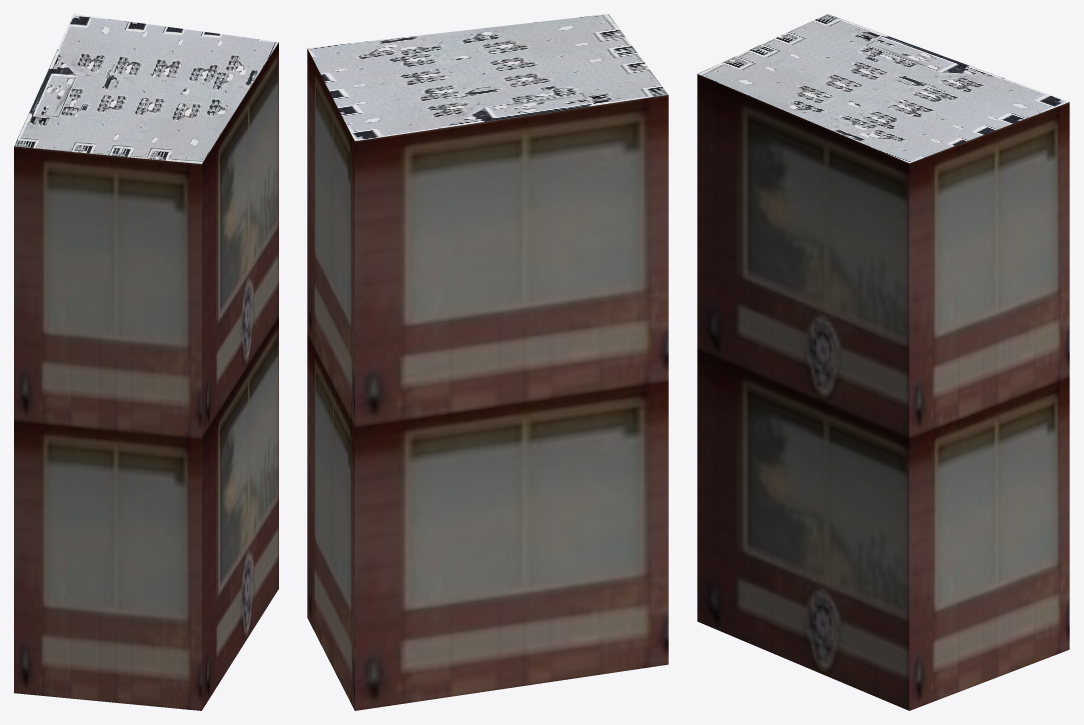
Rendered from ResTex__4345.fbx.
3 renders of one model, left to right at view 1: azimuth 30°, elevation 25°; view 2: azimuth 150°, elevation 25°; view 3: azimuth 270°, elevation 25°, orthographic. The views are drawn at different scales.
Visible parts, largest first — view 1: CityEngineMaterial_13_m, CityEngineMaterial_8_m; view 2: CityEngineMaterial_13_m, CityEngineMaterial_8_m; view 3: CityEngineMaterial_13_m, CityEngineMaterial_8_m.
Boxes of the visible parts, bbox=[...] form: CityEngineMaterial_13_m: bbox=[14, 42, 278, 710]; CityEngineMaterial_8_m: bbox=[14, 14, 278, 163]; CityEngineMaterial_13_m: bbox=[307, 48, 668, 710]; CityEngineMaterial_8_m: bbox=[307, 14, 668, 140]; CityEngineMaterial_13_m: bbox=[697, 74, 1069, 710]; CityEngineMaterial_8_m: bbox=[697, 14, 1068, 163].
Size of the model in its own units: 3.51 by 6 by 3.7.
Materials: 2 (2 with a texture image).
